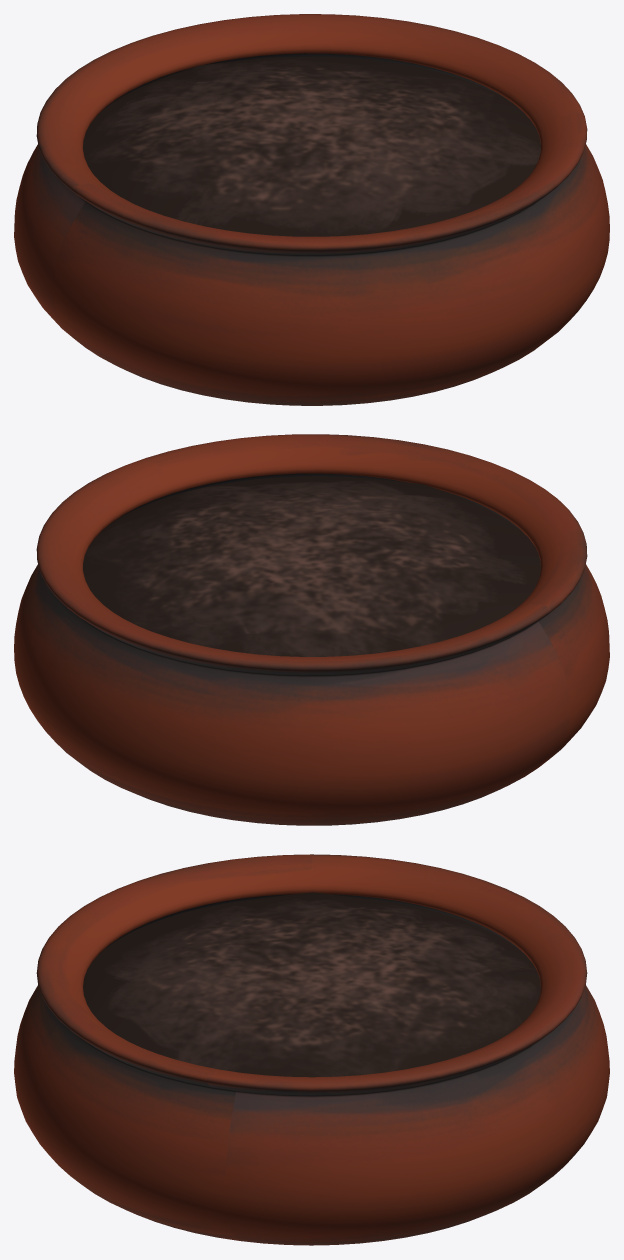
Rendered from flat pot soil.fbx.
3 views of the same model, one above another, from view 1: azimuth 30°, elevation 25°; view 2: azimuth 150°, elevation 25°; view 3: azimuth 270°, elevation 25° (orthographic).
Parts seen in each view (by area): view 1: Cylinder, Circle; view 2: Cylinder, Circle; view 3: Cylinder, Circle.
Part boxes in pixels (x1,y1,x2,y2): Cylinder: (14, 14, 609, 405); Circle: (83, 56, 540, 236); Cylinder: (14, 434, 609, 825); Circle: (83, 476, 540, 656); Cylinder: (14, 854, 609, 1245); Circle: (83, 892, 540, 1077).
Size of the model in its own units: 272 by 91.31 by 272.
2 materials, 2 textured.
